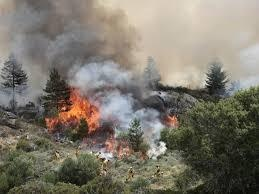fire: (44, 86, 103, 129), (163, 112, 180, 128)
